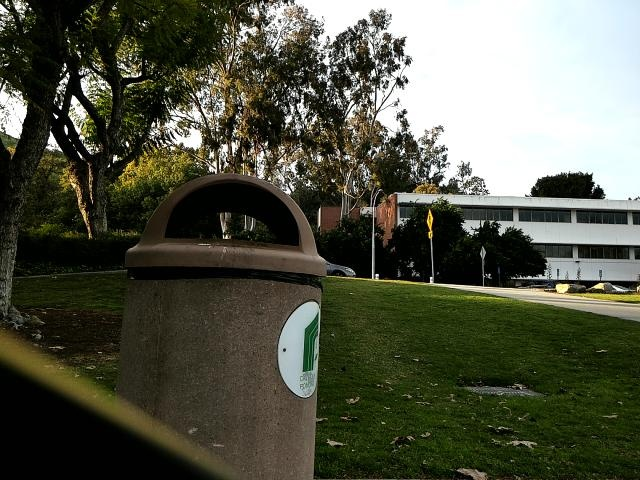trashcan: (112, 173, 329, 480)
